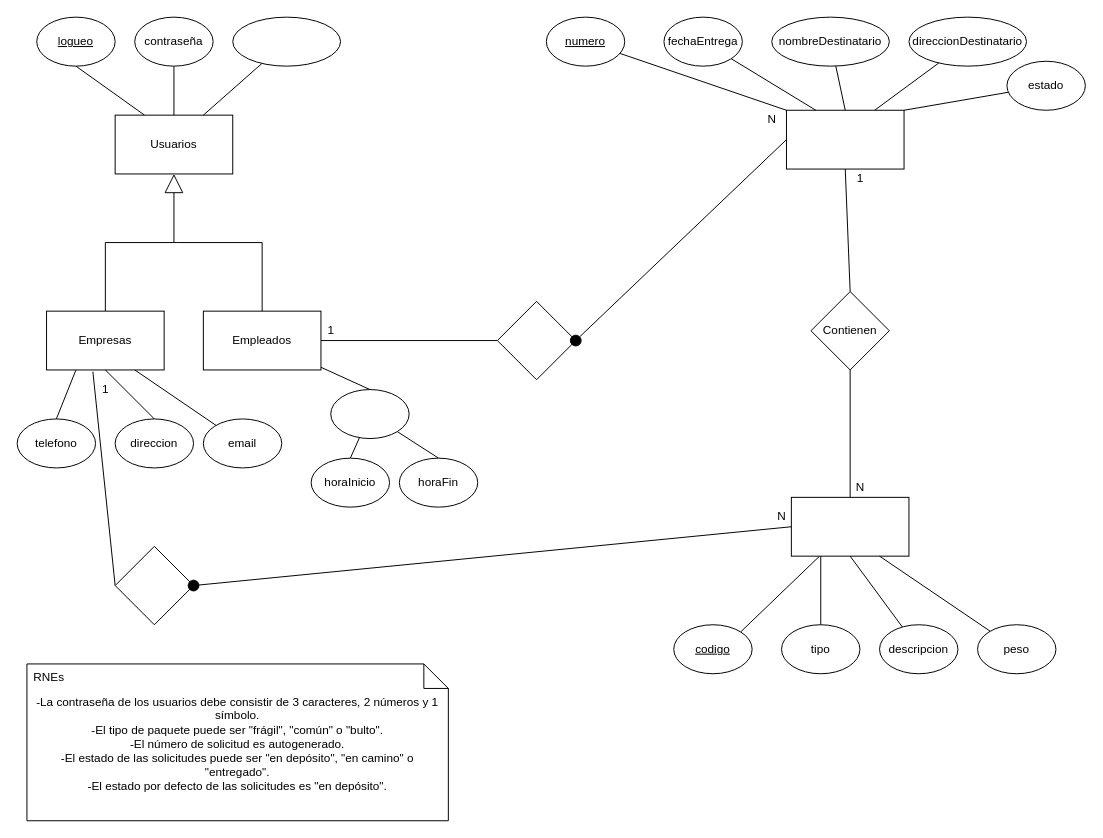
The diagram is 1103 pixels wide and 838 high, and some of its shapes have lost their labels. Each missing label, with the centre of its shape:
Arman: point 154,585
Generan: point 536,340
horario: point 369,414
nombreCompleto: point 286,41
Paquetes: point 849,526
Solicitudes: point 844,139
